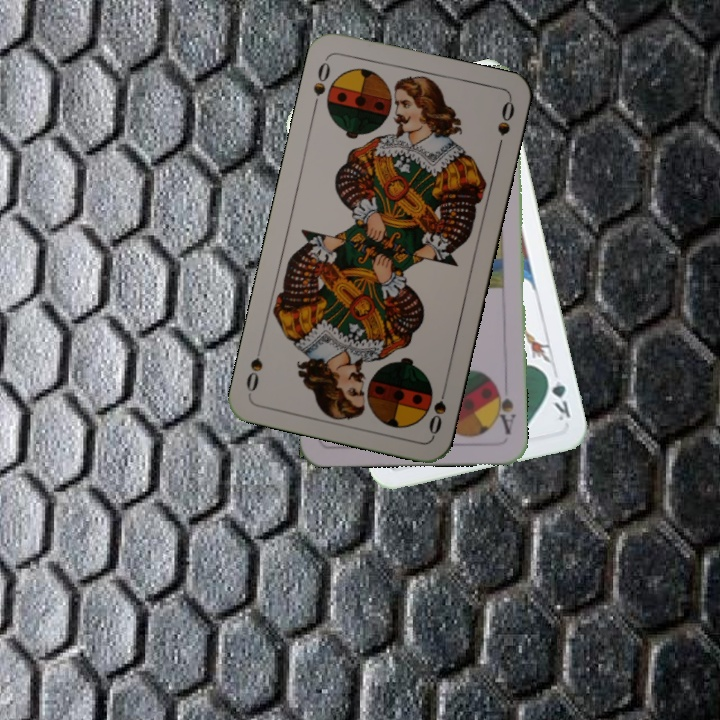GK: (541, 368, 573, 423)
SA: (492, 380, 519, 437)
SO: (424, 380, 450, 438), (309, 55, 333, 113)
